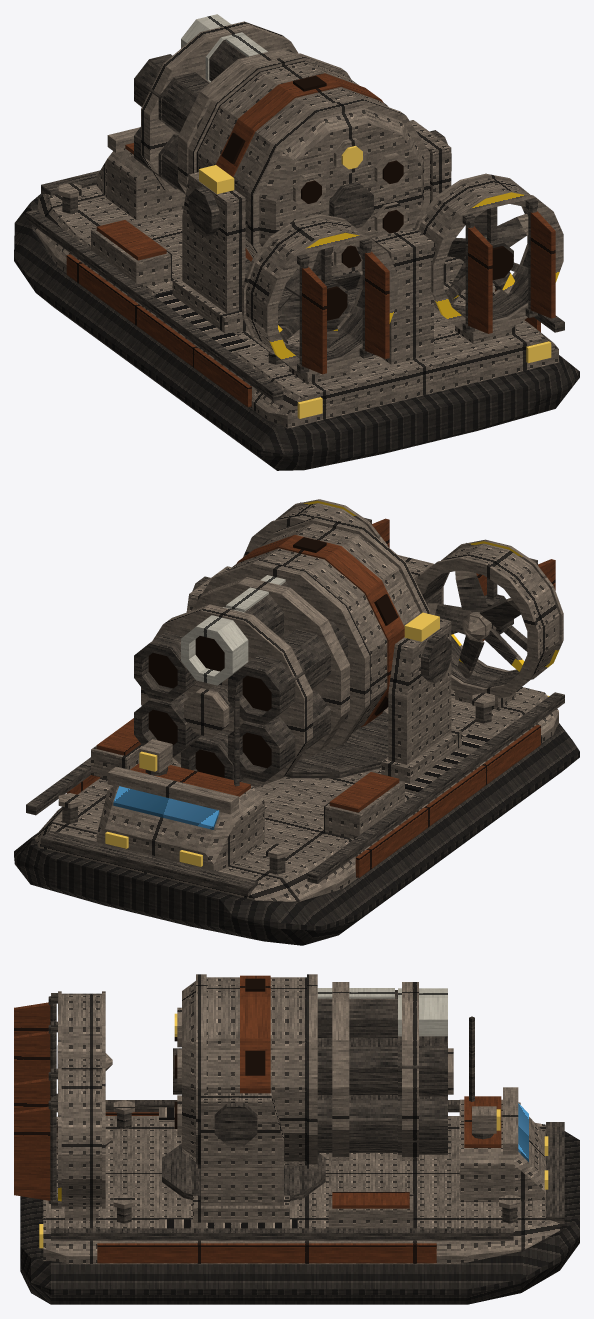
The model's file is cottonmouth.glb.
3 renders of one model, top to bottom at view 1: azimuth 30°, elevation 25°; view 2: azimuth 150°, elevation 25°; view 3: azimuth 270°, elevation 25°, orthographic. The views are drawn at different scales.
Visible parts, largest first — view 1: skirt, hull, casing, yoke_cheek, fan_fairing, collar.001, gunwale, flank_panel, duct_lip.001, casing_rim, duct_lip, duct (+32 smaller); view 2: skirt, hull, casing, cab, yoke_cheek, collar.001, casing_rim.001, collar, gunwale, bore_glow, flank_panel, bow_fender (+38 smaller); view 3: skirt, hull, casing, yoke_cheek.001, flank_panel.001, gunwale.001, duct.001, cab, barrel.005, barrel.004, rudder.003, collar (+35 smaller).
Boxes of the visible parts, x1=… form: skirt: x1=14, y1=193, x2=579, y2=470; hull: x1=35, y1=184, x2=558, y2=428; casing: x1=196, y1=60, x2=423, y2=276; yoke_cheek: x1=182, y1=172, x2=245, y2=313; fan_fairing: x1=371, y1=228, x2=433, y2=364; collar.001: x1=141, y1=21, x2=298, y2=199; gunwale: x1=26, y1=209, x2=283, y2=401; flank_panel: x1=66, y1=254, x2=251, y2=407; duct_lip.001: x1=431, y1=191, x2=563, y2=334; casing_rim: x1=247, y1=97, x2=429, y2=287; duct_lip: x1=265, y1=231, x2=397, y2=375; duct: x1=246, y1=218, x2=361, y2=351; skirt: x1=14, y1=723, x2=579, y2=945; hull: x1=35, y1=687, x2=558, y2=901; casing: x1=229, y1=523, x2=420, y2=732; cab: x1=96, y1=786, x2=264, y2=871; yoke_cheek: x1=388, y1=618, x2=451, y2=764; collar.001: x1=141, y1=604, x2=312, y2=787; casing_rim.001: x1=192, y1=559, x2=370, y2=759; collar: x1=191, y1=577, x2=349, y2=757; gunwale: x1=307, y1=692, x2=564, y2=883; bore_glow: x1=148, y1=636, x2=271, y2=777; flank_panel: x1=355, y1=725, x2=540, y2=877; bow_fender: x1=41, y1=831, x2=257, y2=896; skirt: x1=20, y1=1131, x2=579, y2=1304; hull: x1=43, y1=1116, x2=559, y2=1263; casing: x1=182, y1=977, x2=306, y2=1165; yoke_cheek.001: x1=200, y1=1093, x2=283, y2=1205; flank_panel.001: x1=97, y1=1243, x2=436, y2=1263; gunwale.001: x1=51, y1=1228, x2=513, y2=1240; duct.001: x1=61, y1=1069, x2=101, y2=1206; cab: x1=459, y1=1099, x2=544, y2=1201; barrel.005: x1=317, y1=1038, x2=397, y2=1094; barrel.004: x1=317, y1=1095, x2=397, y2=1147; rudder.003: x1=14, y1=1106, x2=50, y2=1200; collar: x1=332, y1=982, x2=349, y2=1160.
Size of the model in its own units: 45 by 37.03 by 73.4.
Materials: 11 (11 with a texture image).
